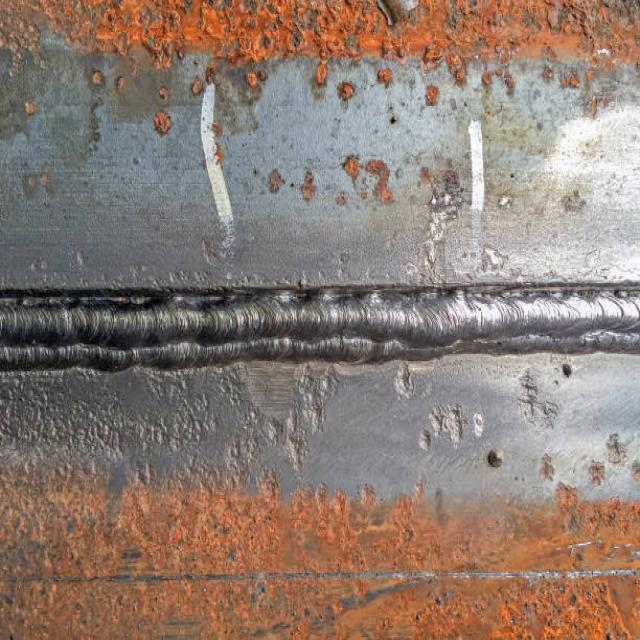Good Welding: (0, 281, 639, 388)
